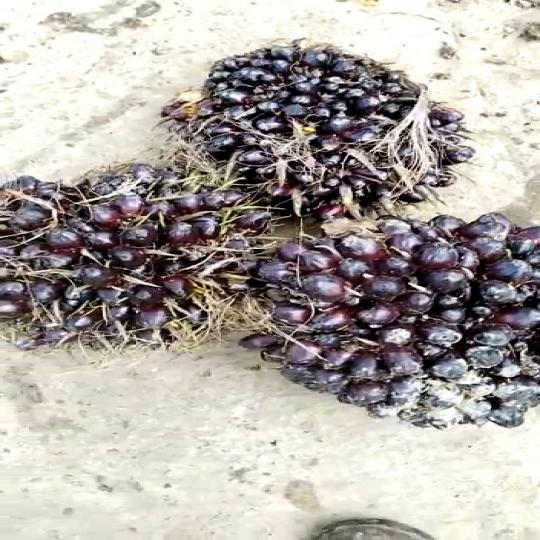mentah: (219, 211, 540, 430), (0, 146, 303, 362), (151, 36, 473, 206)
